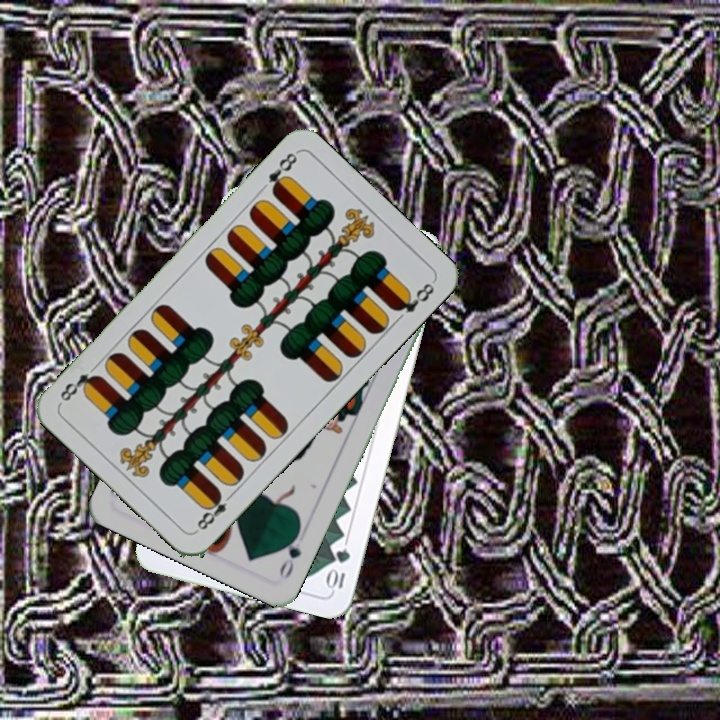E8: (191, 487, 237, 535), (264, 148, 300, 197)
G10: (324, 545, 353, 594)
GO: (275, 525, 304, 581)
